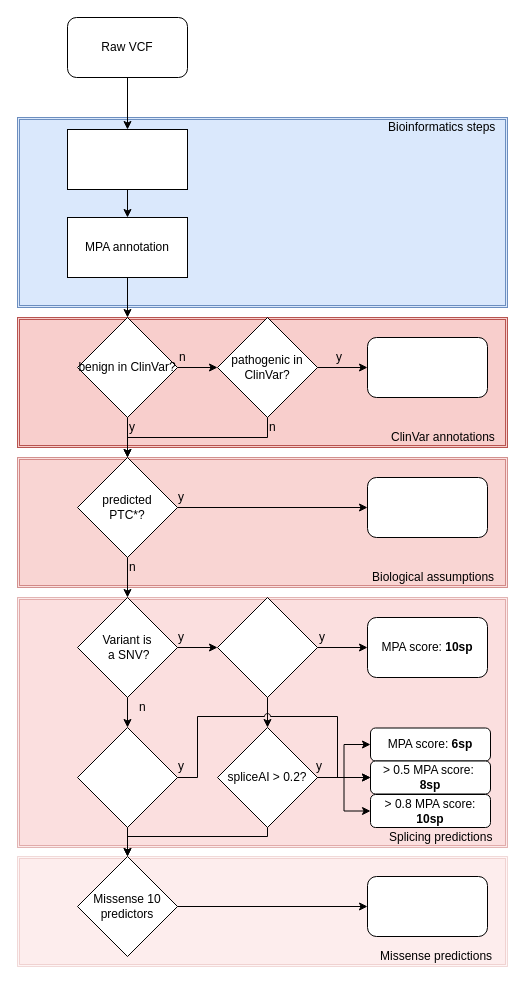
The diagram is 528 pixels wide and 984 high, and some of its shapes have lost their labels. The centre of each missing label's shape, as x and y in pixels:
"ANNOVAR annotation" goes at (127,159).
"dbscSNV ADA or RF > 0.6?" goes at (267,647).
"MPA score: 0-10" goes at (427,906).
"MPA score: 10db" goes at (427,367).
"MPA score: 10sfs" goes at (427,507).
"Variant is an indel surrouding an exon**?" goes at (127,777).
